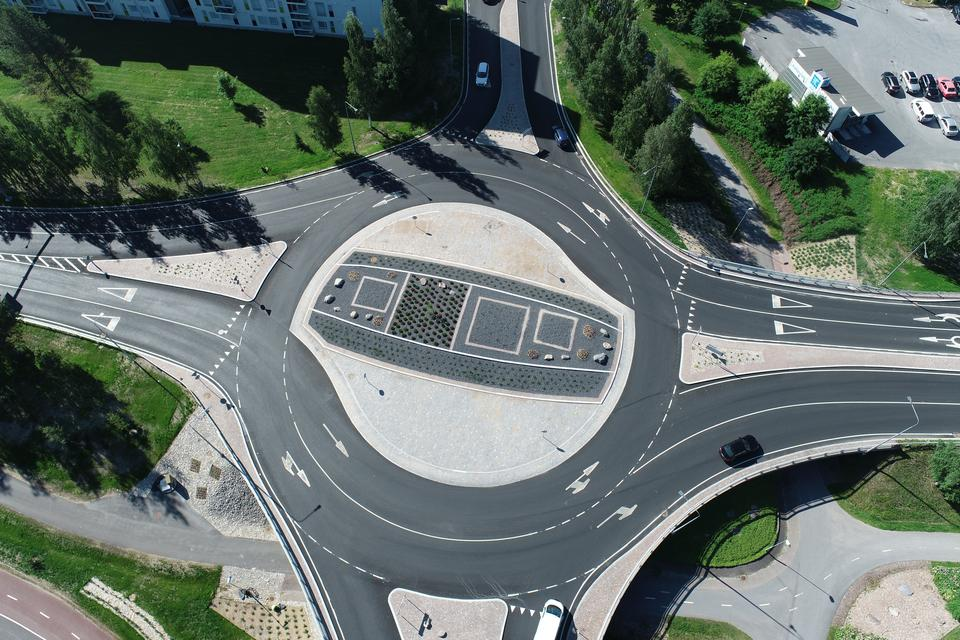roundabout: (158, 137, 711, 640)
